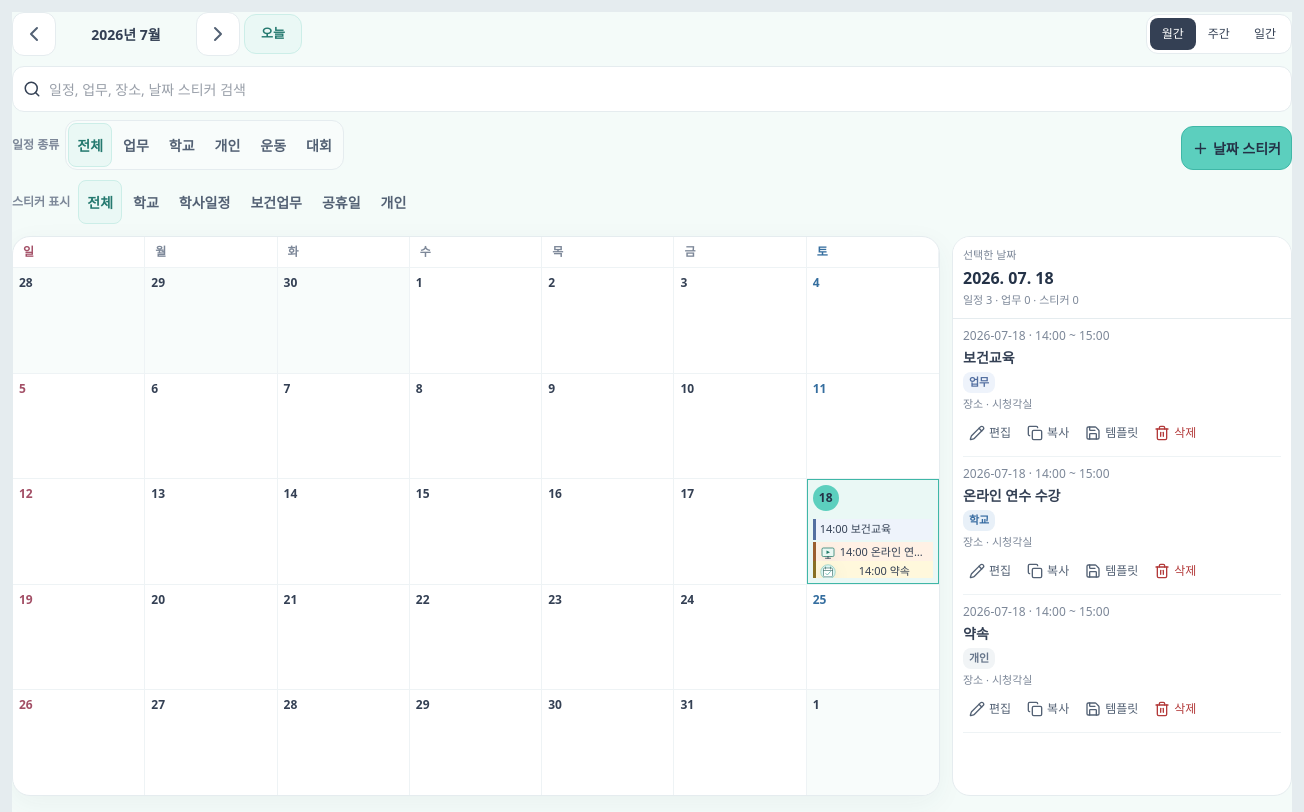
Test: CalendarWorkspace › applies sticker filters to Event-backed stickers without hiding ordinary events
The width and height of the screenshot is (1304, 812).
What coordinates should you click on to do the following:
click the button "개인" in the row of "스티커 표시"
I would click on:
 (394, 202)
Its box is [372, 180, 415, 224].
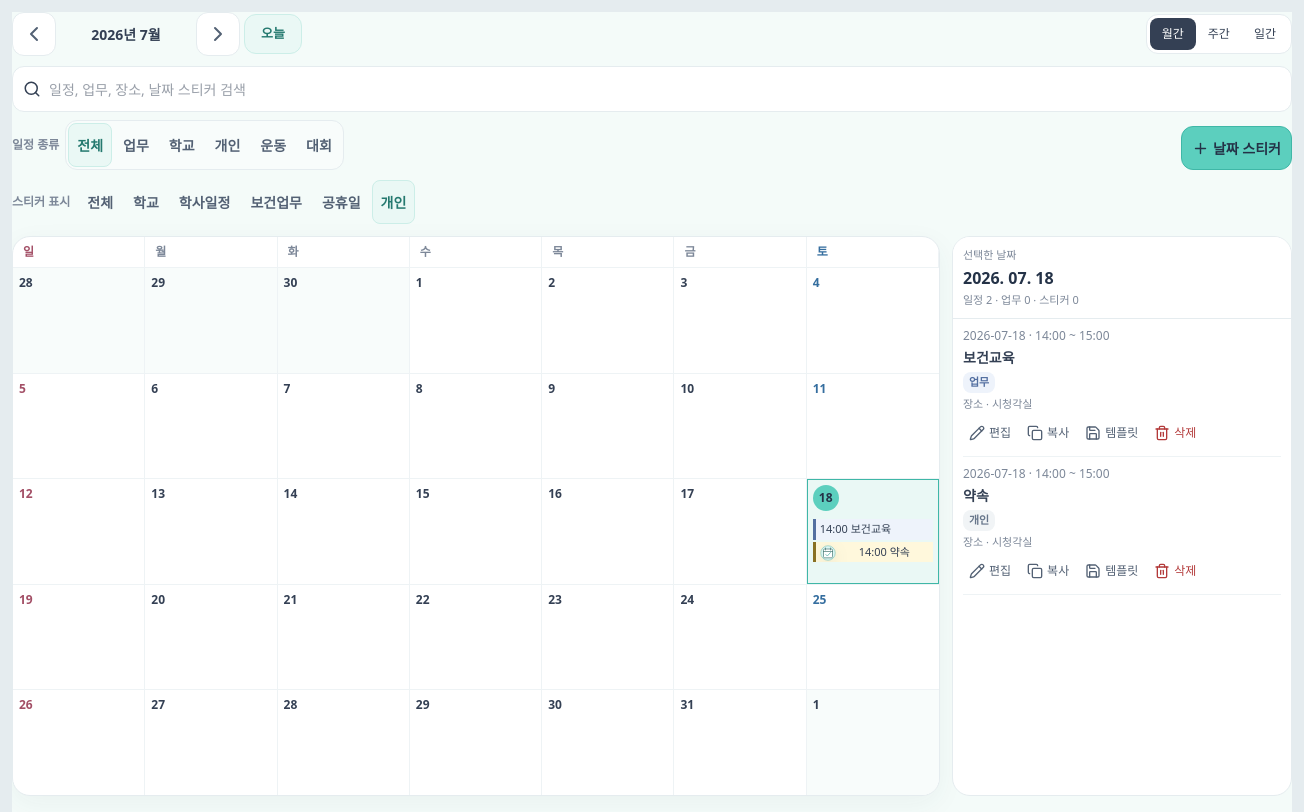
Expected: the cell named "2026-07-18" shows "보건교육", [820, 521, 891, 536]
Expected: the cell named "2026-07-18" no longer shows "온라인 연수 수강", [807, 478, 939, 584]
